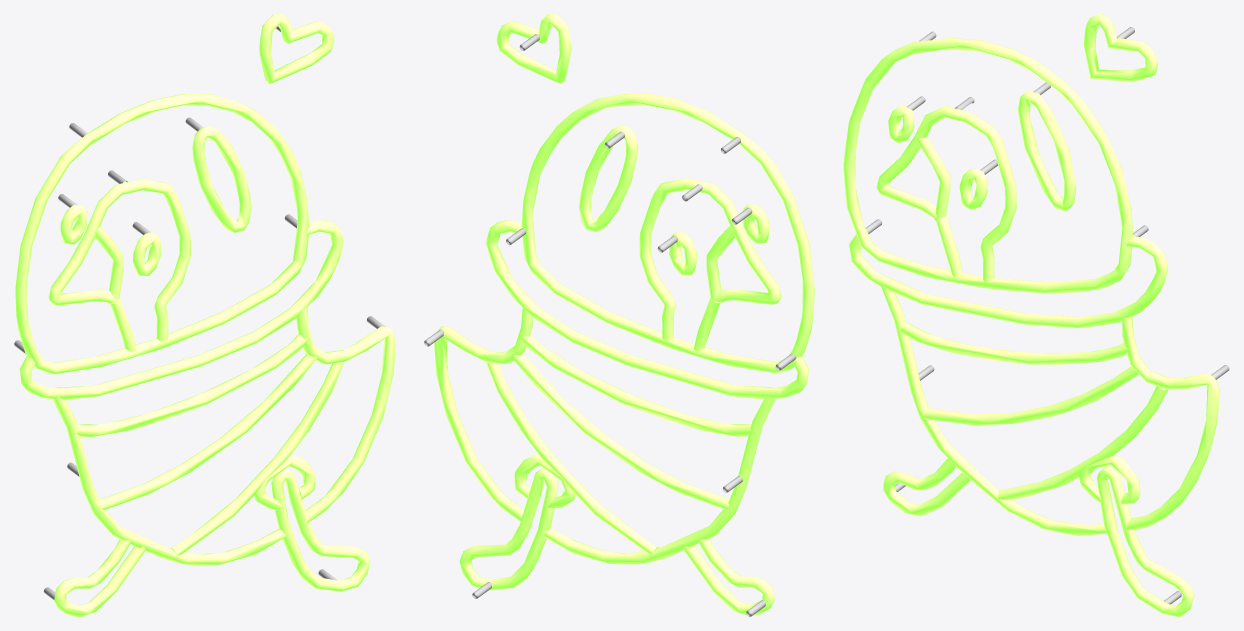
File: NeonGoose.fbx
3 renders of one model, left to right at view 1: azimuth 30°, elevation 25°; view 2: azimuth 150°, elevation 25°; view 3: azimuth 330°, elevation 25°, orthographic.
Visible parts, largest first — view 1: NeonGoose, Mounts; view 2: NeonGoose, Mounts; view 3: NeonGoose, Mounts.
Part boxes in pixels (x1,y1,x2,y2): NeonGoose: (15, 14, 395, 616); Mounts: (14, 26, 385, 599); NeonGoose: (434, 14, 814, 615); Mounts: (424, 34, 796, 616); NeonGoose: (843, 14, 1219, 616); Mounts: (865, 27, 1229, 604).
Size of the model in its own units: 0.5063 by 0.0464 by 0.757.
